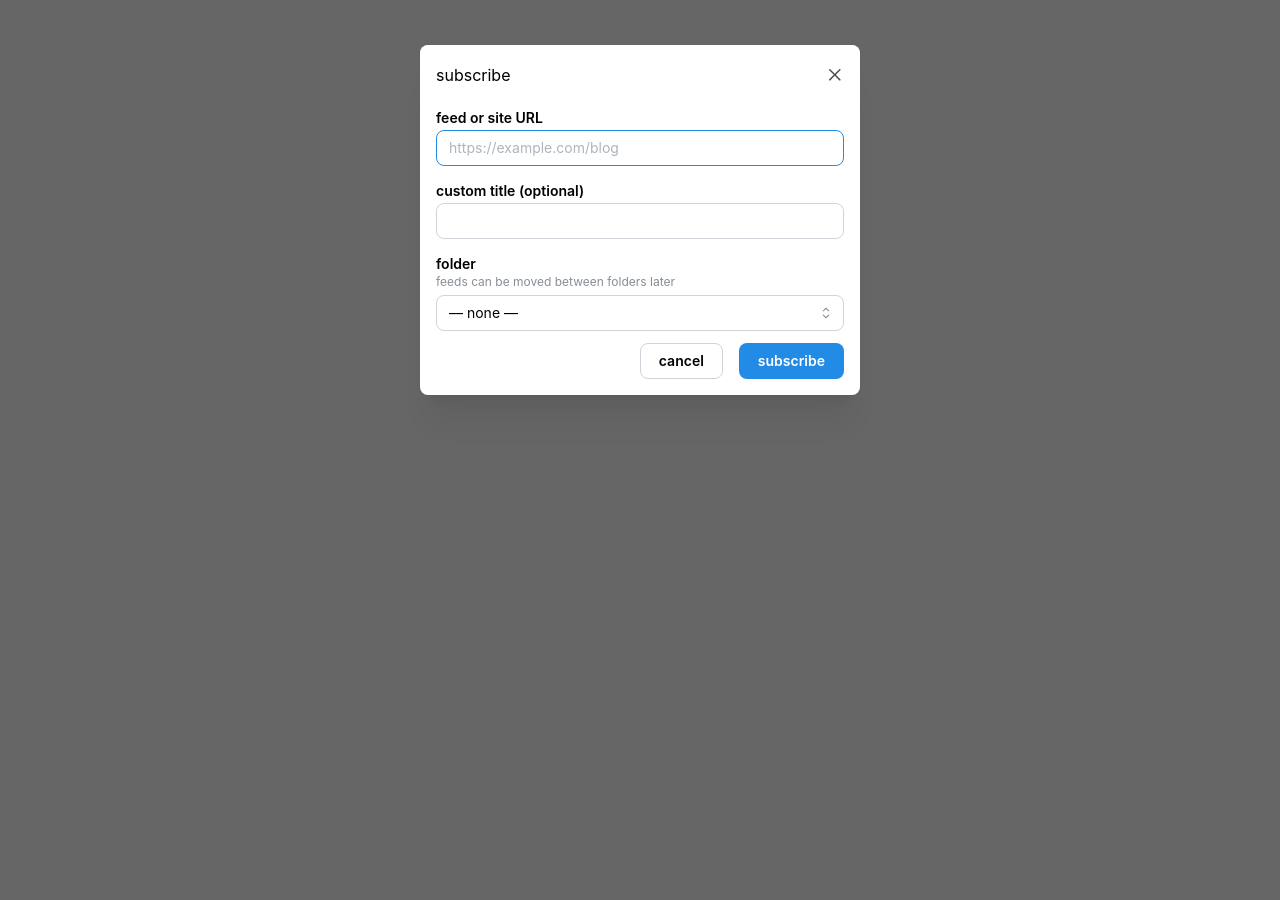
SubscribeModal › clears the error and closes after a successful retry
In the field labelled "feed or site URL": (640, 148) [436,130,844,166], type "https://example.com/feed"
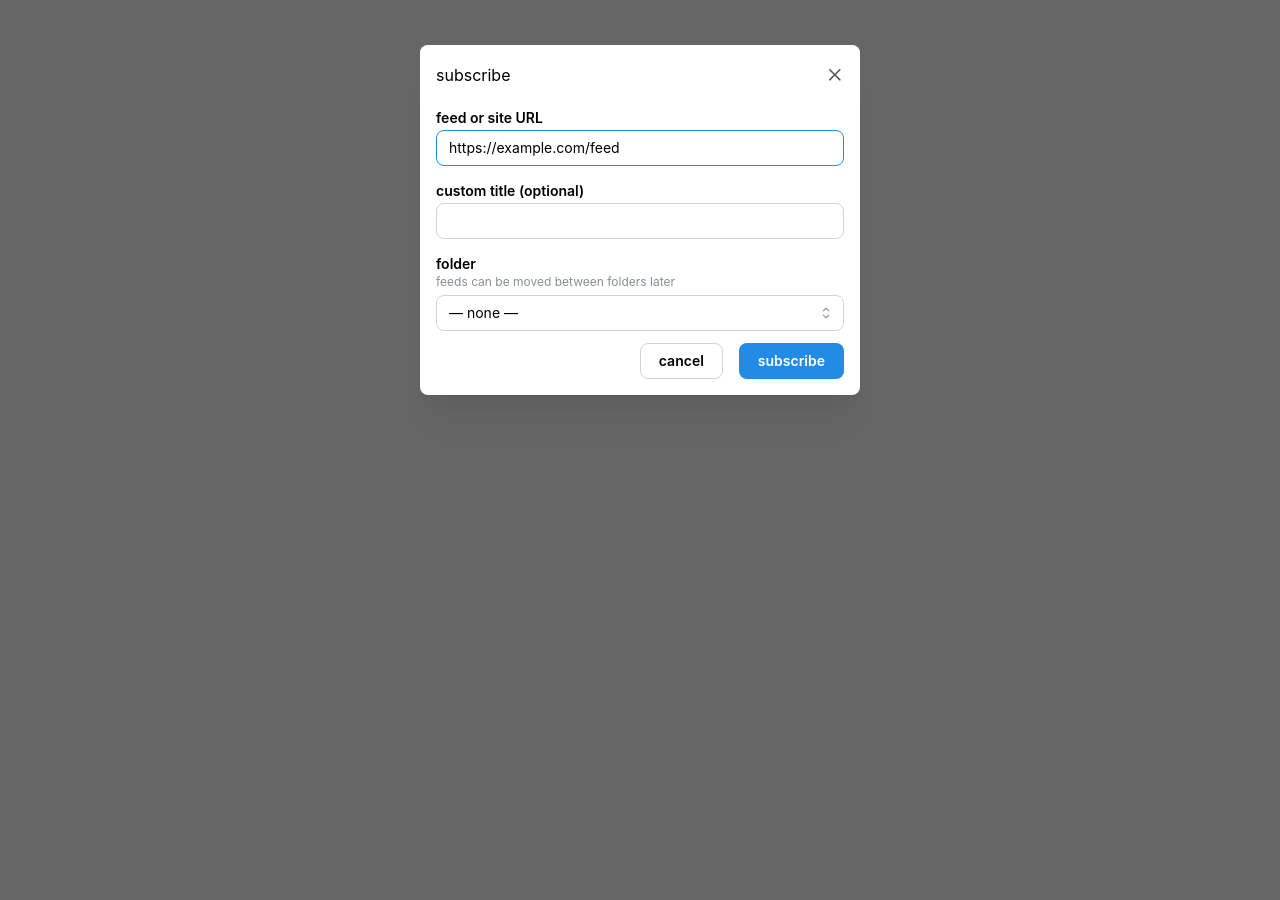
Click the button "subscribe": (791, 361) [739,343,844,379]
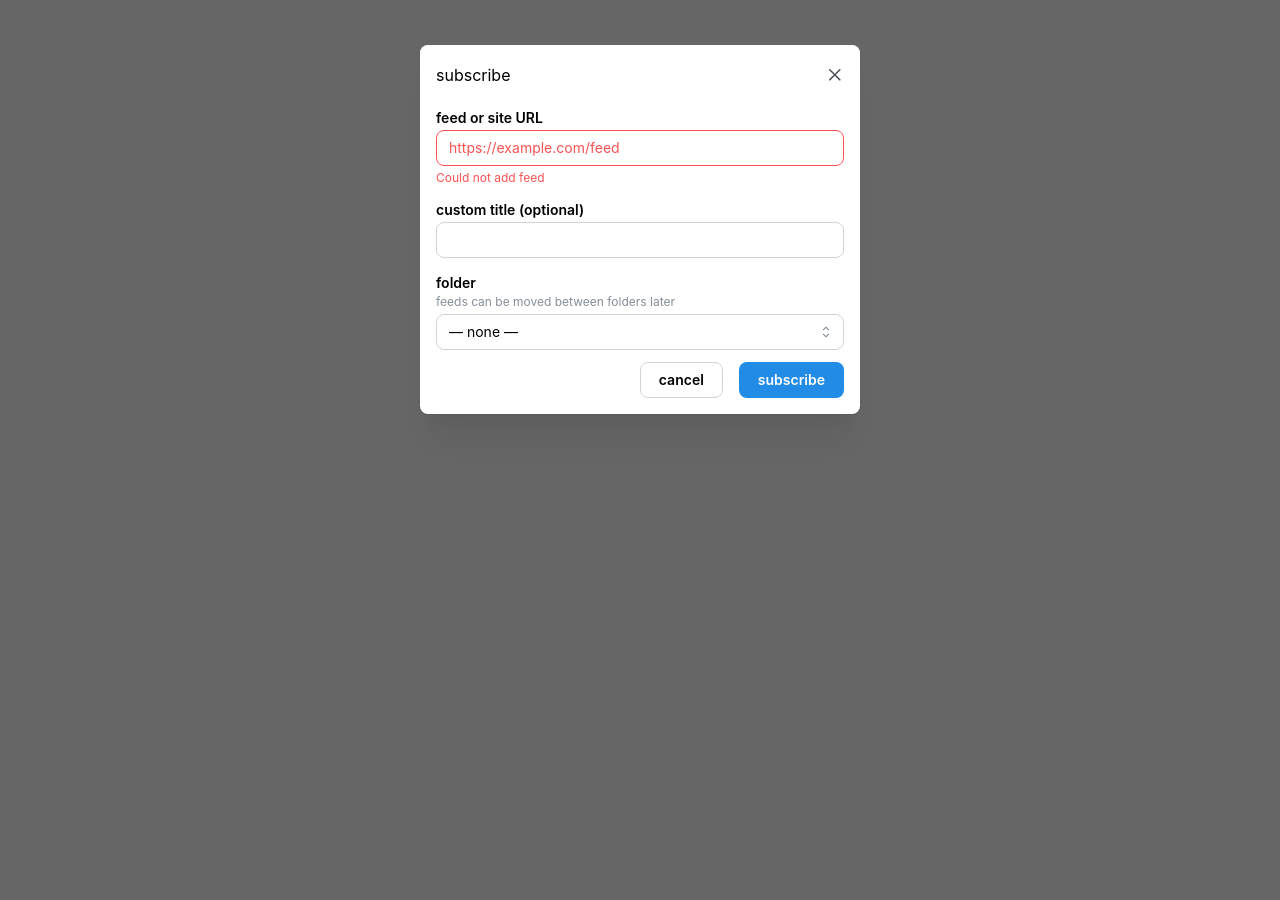
expect the text "Could not add feed" is shown: met, box [436,170,544,185]
Click the button "subscribe": (791, 380) [739,362,844,398]
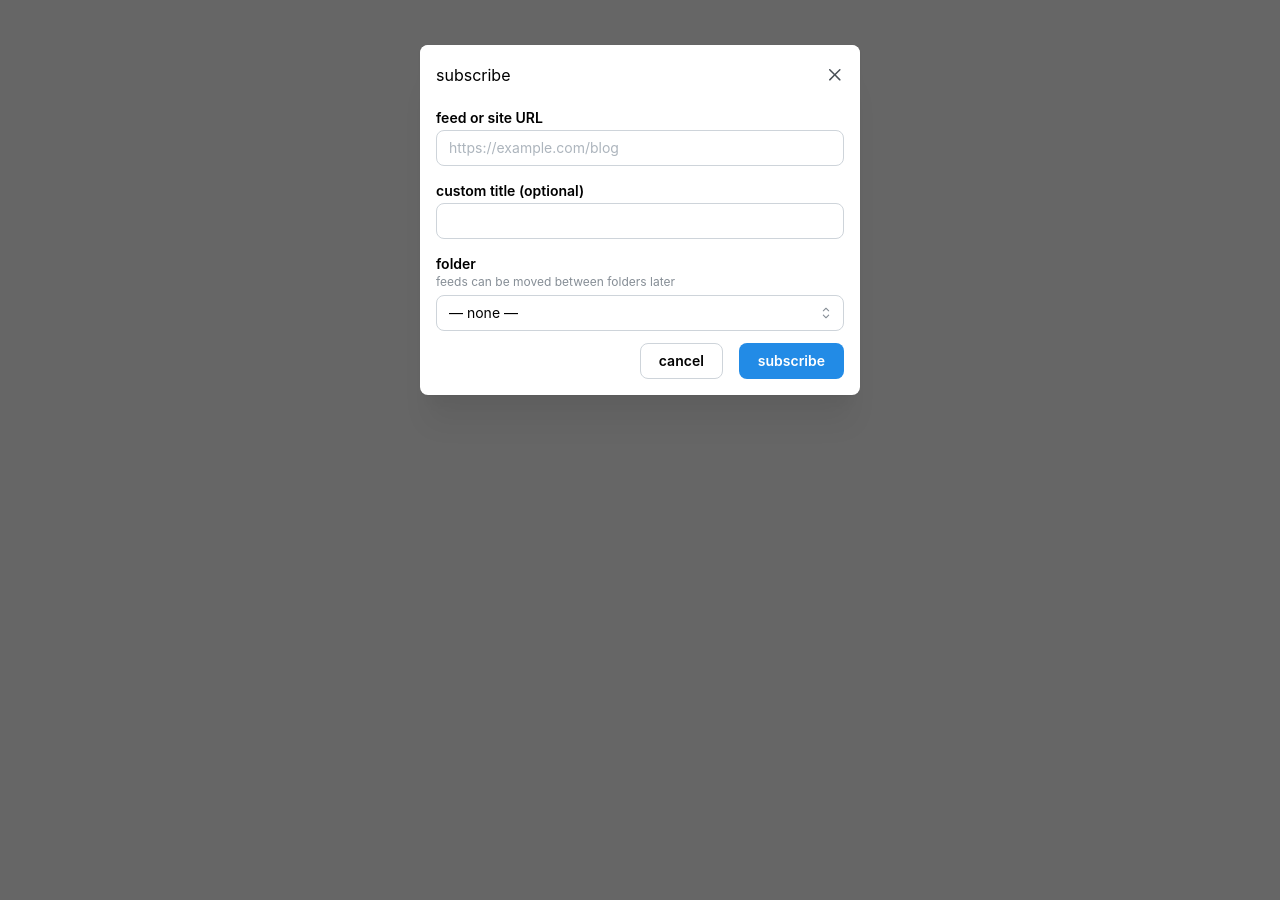
expect the text "Could not add feed" is gone: met
